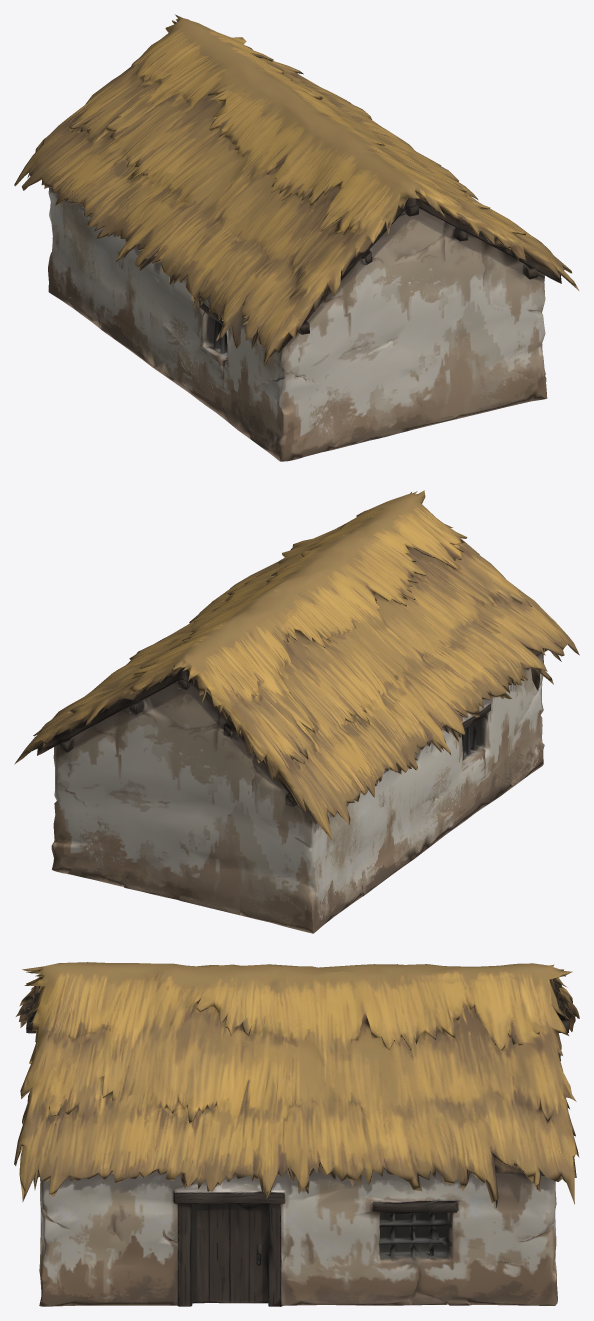
The model's file is fff0bb99-f145-4f8f-8342-08b2c095c38b_model_url.glb.
3 renders of one model, top to bottom at view 1: azimuth 30°, elevation 25°; view 2: azimuth 150°, elevation 25°; view 3: azimuth 270°, elevation 25°, orthographic. The views are drawn at different scales.
Visible parts, largest first — view 1: tripo_node_fff0bb99-f145-4f8f-8342-08b2c095c38b; view 2: tripo_node_fff0bb99-f145-4f8f-8342-08b2c095c38b; view 3: tripo_node_fff0bb99-f145-4f8f-8342-08b2c095c38b.
Part boxes in pixels (bbox=[...]): tripo_node_fff0bb99-f145-4f8f-8342-08b2c095c38b: bbox=[14, 14, 579, 461]; tripo_node_fff0bb99-f145-4f8f-8342-08b2c095c38b: bbox=[14, 490, 579, 933]; tripo_node_fff0bb99-f145-4f8f-8342-08b2c095c38b: bbox=[14, 962, 579, 1306].
Size of the model in its own units: 0.7647 by 0.5247 by 1.
1 material, 1 textured.
